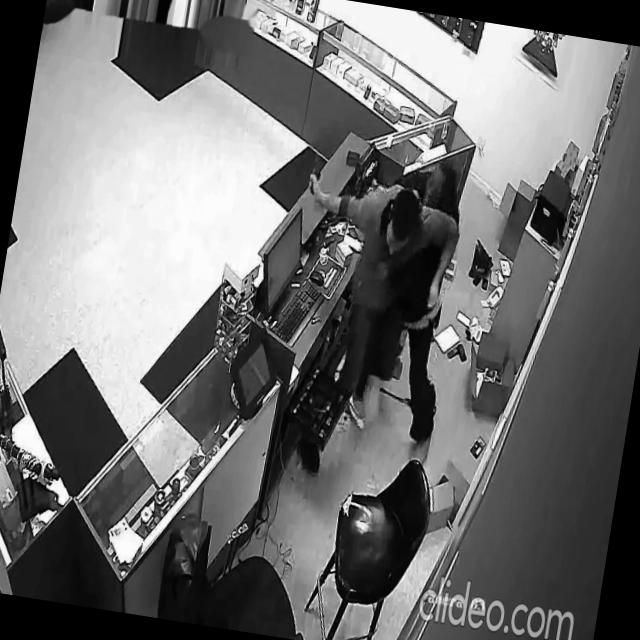gun: (306, 158, 324, 198)
person: (333, 150, 476, 470)
person with a gun: (272, 156, 468, 440)
